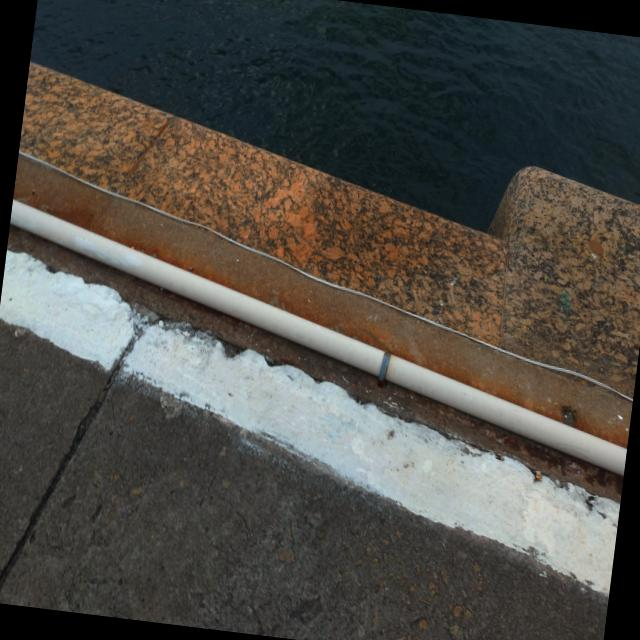gas: (9, 201, 624, 475)
